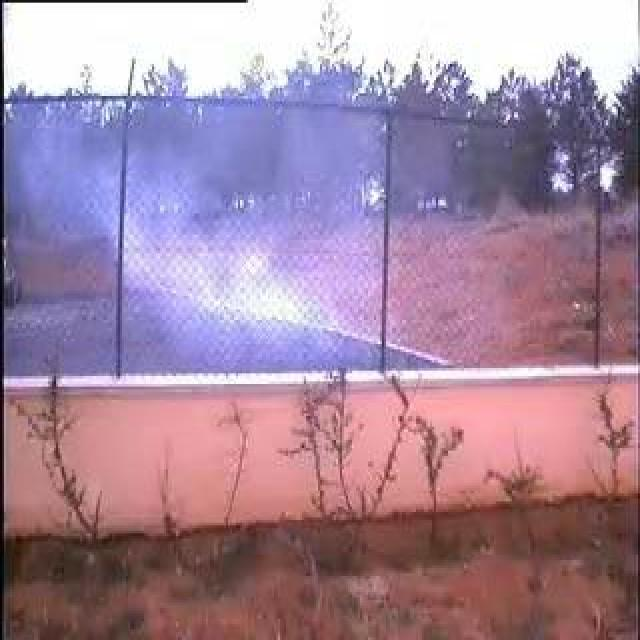Smoke: (119, 119, 387, 369)
